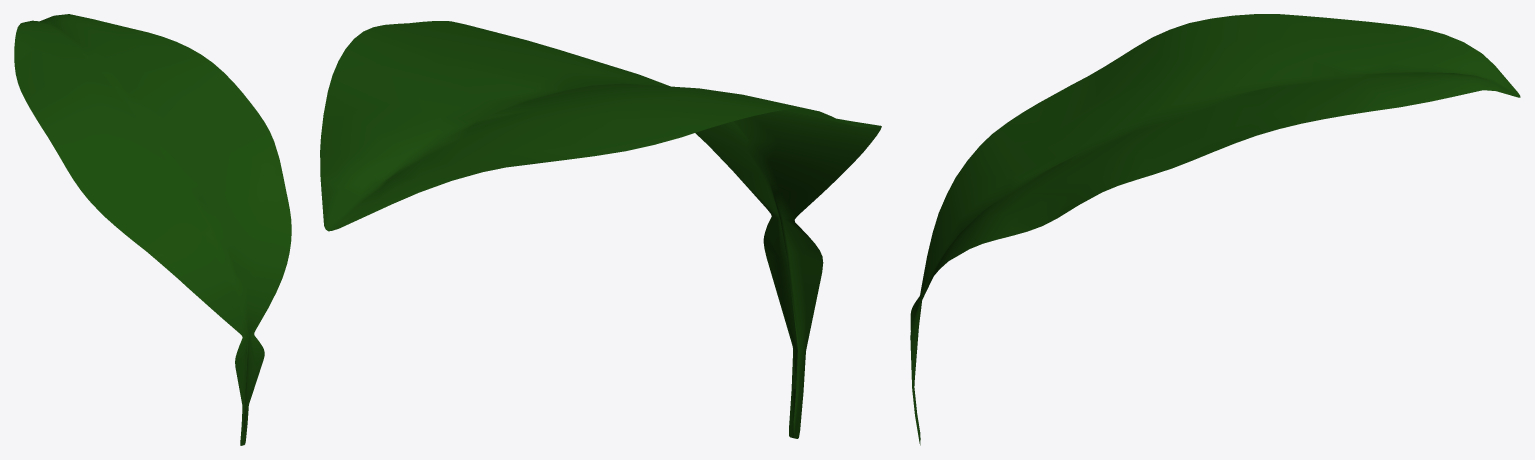
The model's file is leaf.glb.
3 views of the same model, side by side, from view 1: azimuth 30°, elevation 25°; view 2: azimuth 150°, elevation 25°; view 3: azimuth 270°, elevation 25° (orthographic). The views are drawn at different scales.
Visible parts, largest first — view 1: Object_3; view 2: Object_3; view 3: Object_3.
Part boxes in pixels (left/top/right/bottom): Object_3: left=14, top=14, right=291, bottom=445; Object_3: left=320, top=21, right=881, bottom=438; Object_3: left=910, top=14, right=1520, bottom=445.
Size of the model in its own units: 0.3269 by 0.4436 by 0.6347.
